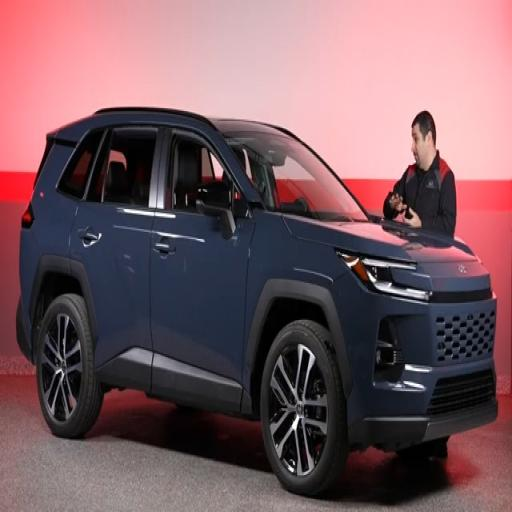bumper: (348, 397, 497, 450), (16, 298, 31, 361)
door: (151, 133, 254, 409), (70, 127, 161, 391)
emblem: (458, 265, 466, 274)
grille: (428, 370, 495, 415), (436, 311, 495, 362)
headlight: (336, 251, 431, 301)
hood: (284, 215, 490, 292), (284, 217, 476, 263)
side_mirror: (196, 181, 235, 238)
taillight: (22, 202, 34, 228)
tire: (396, 437, 448, 462)
wheel: (260, 320, 348, 496), (36, 295, 103, 438)
window: (165, 136, 249, 216), (88, 127, 157, 207), (58, 131, 103, 199)
windshield: (227, 133, 367, 221)
